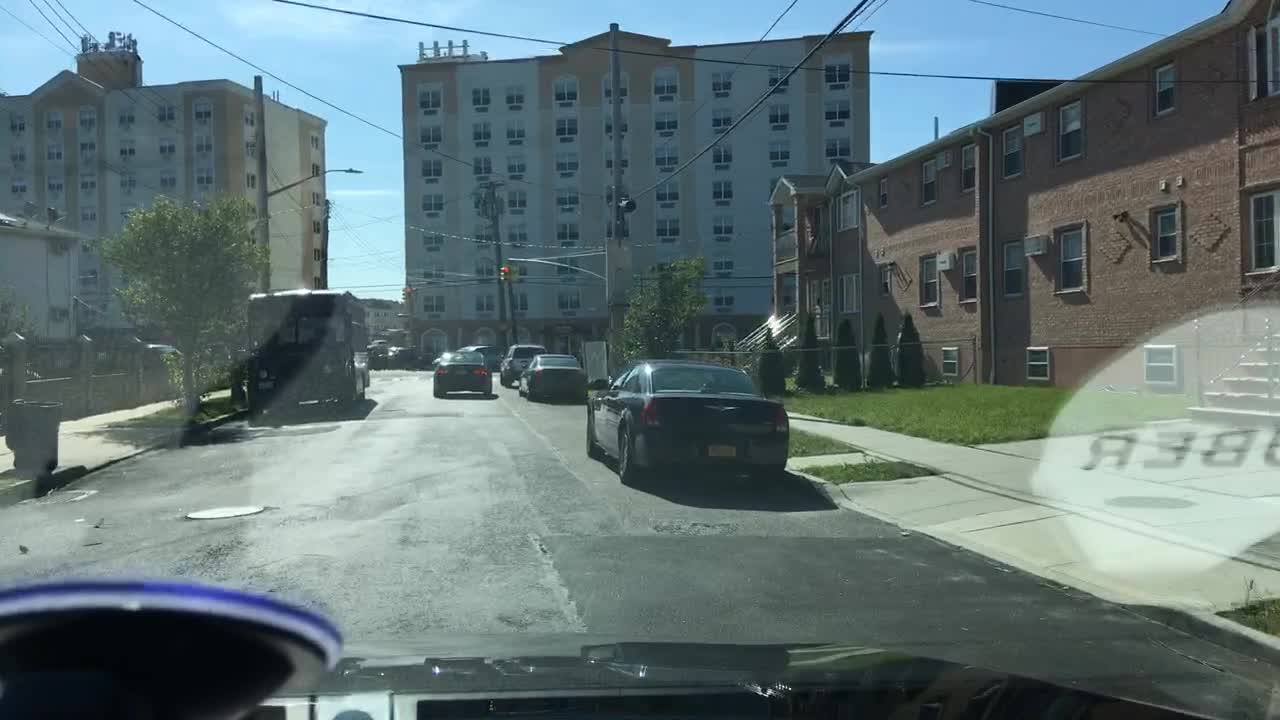bus: (245, 289, 372, 422)
car: (584, 357, 791, 483), (516, 352, 588, 402), (430, 350, 492, 397), (496, 343, 547, 388), (460, 344, 500, 367), (410, 349, 442, 370), (389, 344, 412, 369), (362, 353, 386, 374), (360, 340, 391, 353)
traffic light: (405, 285, 412, 301), (411, 286, 417, 302), (504, 264, 510, 280), (401, 286, 407, 301), (498, 265, 503, 281)
